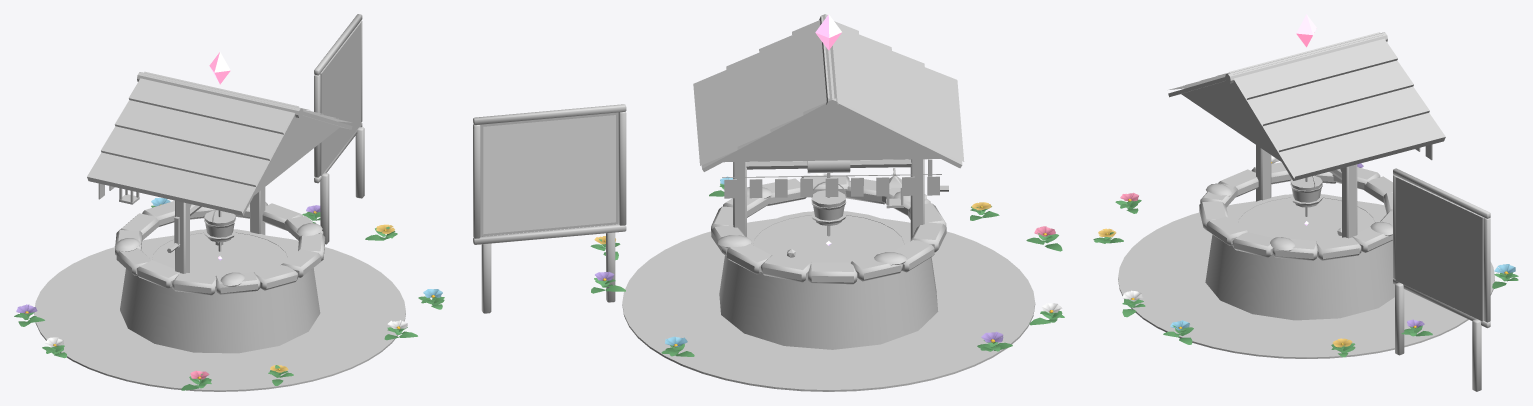
Rendered from zon_diaryring_wishlist.glb.
The picture shows the model from 3 angles, left to right: view 1: azimuth 30°, elevation 25°; view 2: azimuth 150°, elevation 25°; view 3: azimuth 270°, elevation 25°; orthographic projection. The views are drawn at different scales.
Parts seen in each view (by area): view 1: SM_zon_diaryring_wishlist_kit_diaryring_wishlist_x0_z0, ANIM_bld_wishlist_water__0, SM_zon_diaryring_wishlist_vc_palette_x0_z0, ANIM_bld_wishlist_bucket__0, INST_bld_wishlist_ripple__0, ANIM_bld_wishlist_marker__0; view 2: SM_zon_diaryring_wishlist_kit_diaryring_wishlist_x0_z0, SCREEN_wishlist_wishlist__0, ANIM_bld_wishlist_water__0, SM_zon_diaryring_wishlist_vc_palette_x0_z0, ANIM_bld_wishlist_axle__0, ANIM_bld_wishlist_bucket__0, INST_bld_wishlist_ripple__0, ANIM_bld_wishlist_marker__0; view 3: SM_zon_diaryring_wishlist_kit_diaryring_wishlist_x0_z0, ANIM_bld_wishlist_water__0, SM_zon_diaryring_wishlist_vc_palette_x0_z0, ANIM_bld_wishlist_bucket__0, INST_bld_wishlist_ripple__0, ANIM_bld_wishlist_marker__0.
Part boxes in pixels (x1,y1,x2,y2): SM_zon_diaryring_wishlist_kit_diaryring_wishlist_x0_z0: (34,14,405,391); ANIM_bld_wishlist_water__0: (145,233,294,275); SM_zon_diaryring_wishlist_vc_palette_x0_z0: (14,197,444,390); ANIM_bld_wishlist_bucket__0: (204,209,236,242); INST_bld_wishlist_ripple__0: (145,229,293,259); ANIM_bld_wishlist_marker__0: (209,52,230,84); SM_zon_diaryring_wishlist_kit_diaryring_wishlist_x0_z0: (473,14,1035,391); SCREEN_wishlist_wishlist__0: (483,115,615,234); ANIM_bld_wishlist_water__0: (747,215,910,262); SM_zon_diaryring_wishlist_vc_palette_x0_z0: (590,173,1064,356); ANIM_bld_wishlist_axle__0: (746,159,911,173); ANIM_bld_wishlist_bucket__0: (811,181,846,225); INST_bld_wishlist_ripple__0: (747,211,910,244); ANIM_bld_wishlist_marker__0: (815,14,841,50); SM_zon_diaryring_wishlist_kit_diaryring_wishlist_x0_z0: (1118,32,1494,391); ANIM_bld_wishlist_water__0: (1230,198,1382,241); SM_zon_diaryring_wishlist_vc_palette_x0_z0: (1093,156,1518,357); ANIM_bld_wishlist_bucket__0: (1290,175,1322,207); INST_bld_wishlist_ripple__0: (1231,194,1381,223); ANIM_bld_wishlist_marker__0: (1296,14,1316,47).
Bounding box in the file's own units: 6.42 × 3.79 × 5.51.
